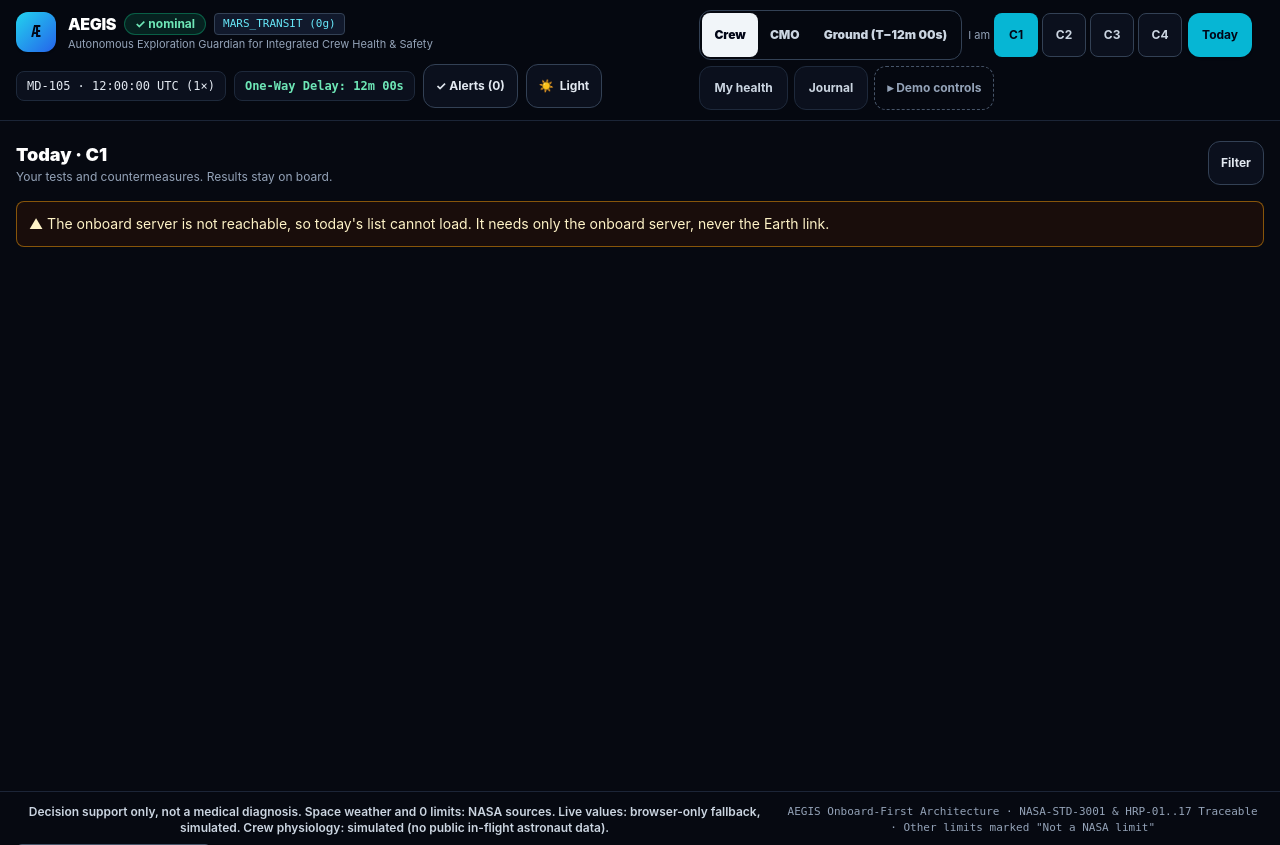
Test: S-1 roles › the CMO page keeps its weekly chart and the charts open
This screenshot has width=1280, height=845.
Click the button with test id "role-cmo" at (785, 35), box [758, 13, 812, 57]
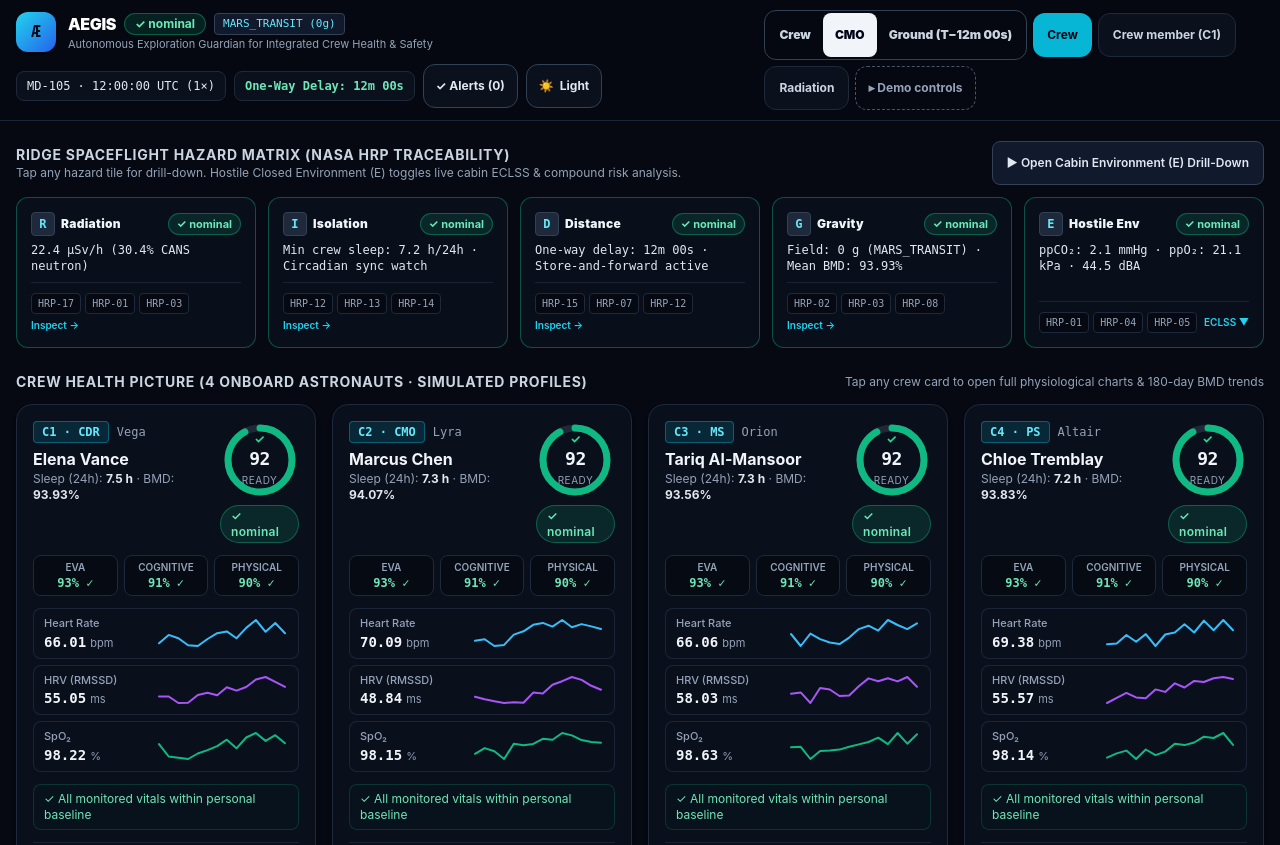
Click the button "Crew member (C1)" at (1167, 35), box [1098, 13, 1236, 57]
(page scrolled)
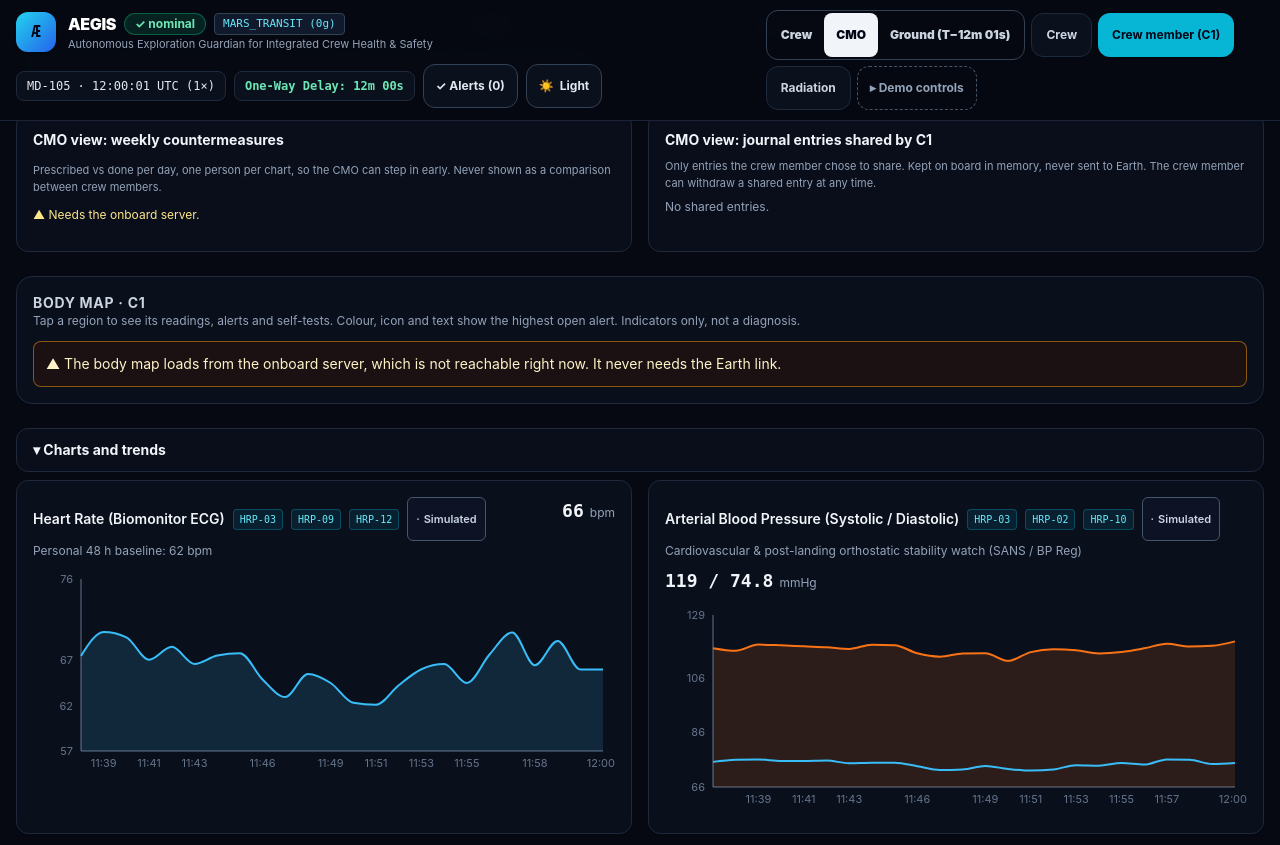
Now the element with test id "weekly-adherence-onboard" is shown, box [16, 113, 632, 252]
